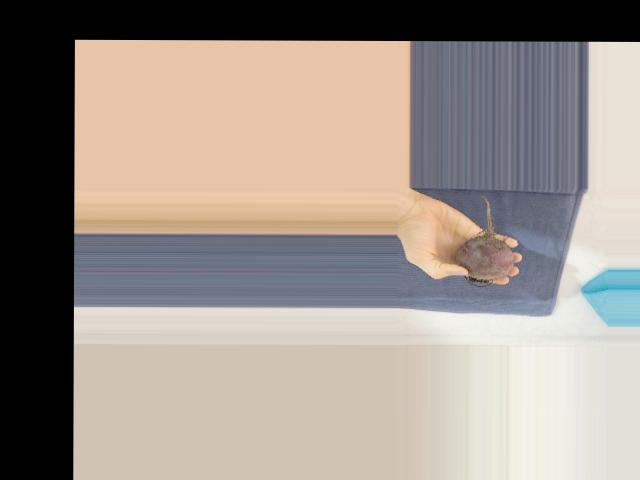beet: (456, 195, 515, 286)
